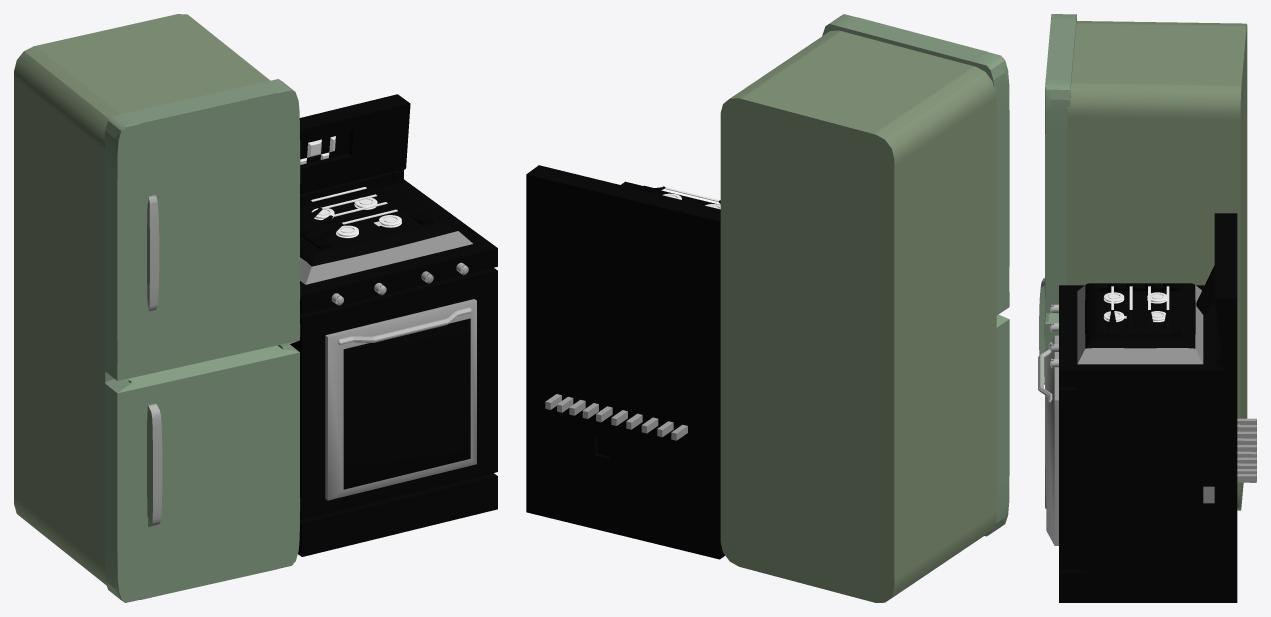
Rendered from kulkas dan micro.fbx.
3 renders of one model, left to right at view 1: azimuth 30°, elevation 25°; view 2: azimuth 150°, elevation 25°; view 3: azimuth 270°, elevation 25°, orthographic. The views are drawn at different scales.
Parts seen in each view (by area): view 1: Kulkas, microwave1; view 2: Kulkas, microwave1; view 3: microwave1, Kulkas.
Part boxes in pixels (x1=…): Kulkas: x1=14, y1=14, x2=300, y2=602; microwave1: x1=290, y1=94, x2=497, y2=556; Kulkas: x1=720, y1=14, x2=1009, y2=602; microwave1: x1=526, y1=165, x2=724, y2=559; microwave1: x1=1038, y1=213, x2=1256, y2=602; Kulkas: x1=1039, y1=14, x2=1247, y2=510.
Size of the model in its own units: 4.58 by 5.44 by 2.53.
